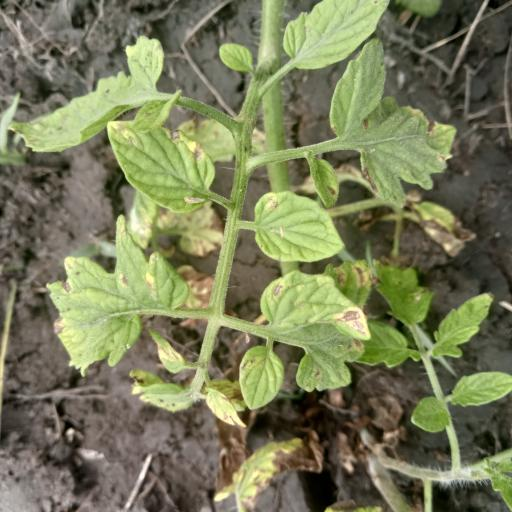Tomato_Brown_Spots: (332, 36, 455, 212), (55, 222, 181, 370), (256, 270, 370, 396), (100, 116, 218, 214), (250, 190, 345, 264)
